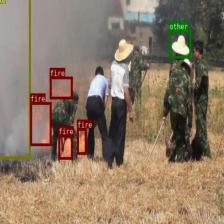fire: (30, 101, 51, 145), (50, 76, 72, 99), (58, 135, 72, 159), (76, 128, 86, 154)
smoke: (0, 0, 30, 158)
